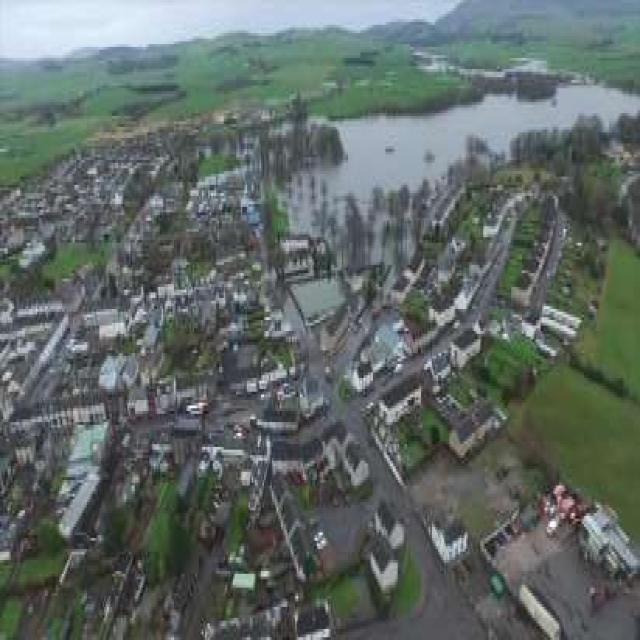flooded_areas: (158, 66, 630, 257)
